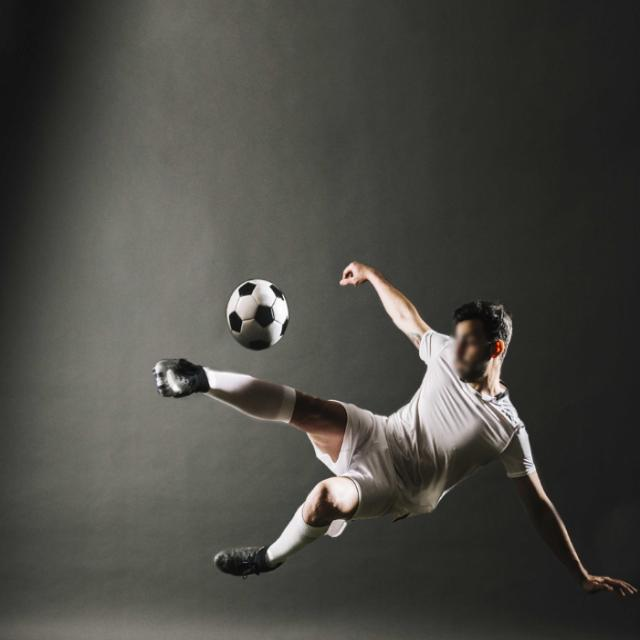football: (207, 252, 319, 352)
